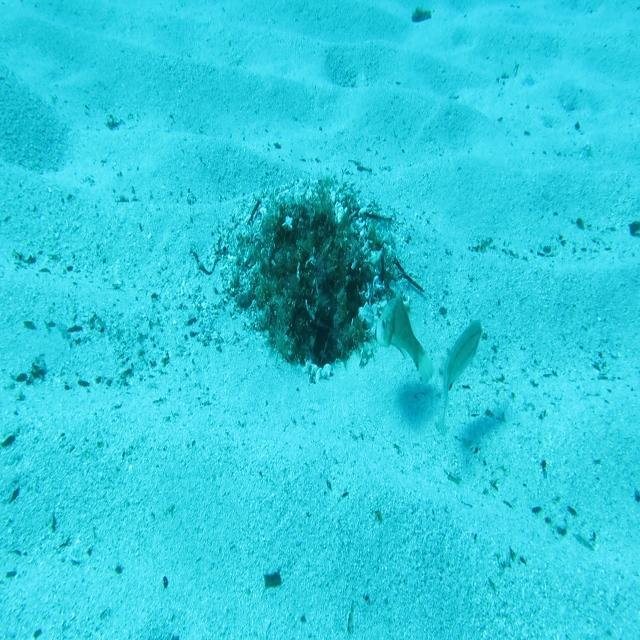BEND: (370, 289, 437, 389)
core_nest: (288, 210, 334, 264)
female: (439, 316, 484, 439)
nest: (205, 148, 428, 402)
vegetation: (262, 570, 282, 591), (408, 8, 433, 23), (627, 216, 640, 239)
